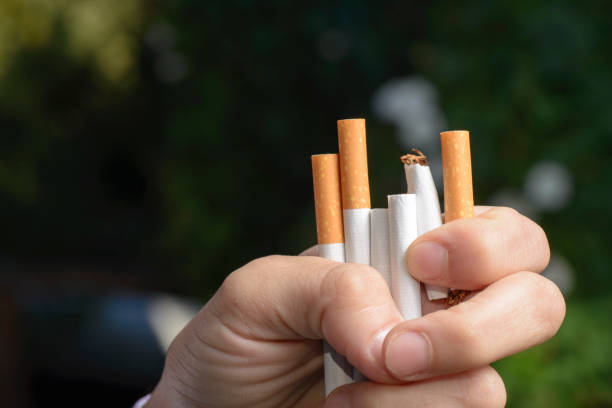cigarette: (311, 153, 354, 396), (402, 153, 449, 301), (336, 116, 371, 266), (388, 192, 423, 320), (439, 128, 474, 225), (371, 208, 390, 295)
